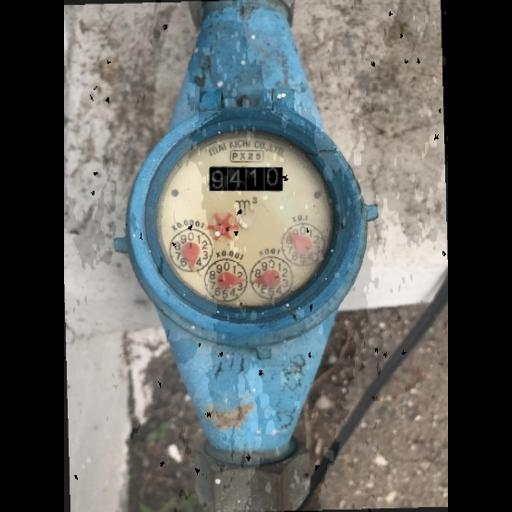0: (265, 168, 283, 191)
1: (247, 168, 264, 191)
4: (229, 168, 246, 191)
9: (209, 168, 227, 191)
border_water_meter_number: (209, 167, 283, 192)
